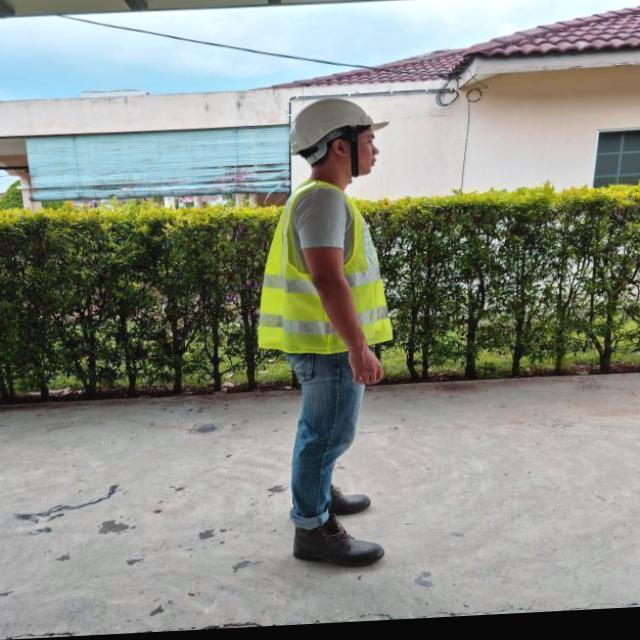Helmet: (290, 98, 391, 158)
No-Glove: (350, 348, 386, 391)
Safety-Boot: (294, 514, 386, 573), (329, 486, 372, 518)
Safety-Vest: (258, 179, 395, 361)
